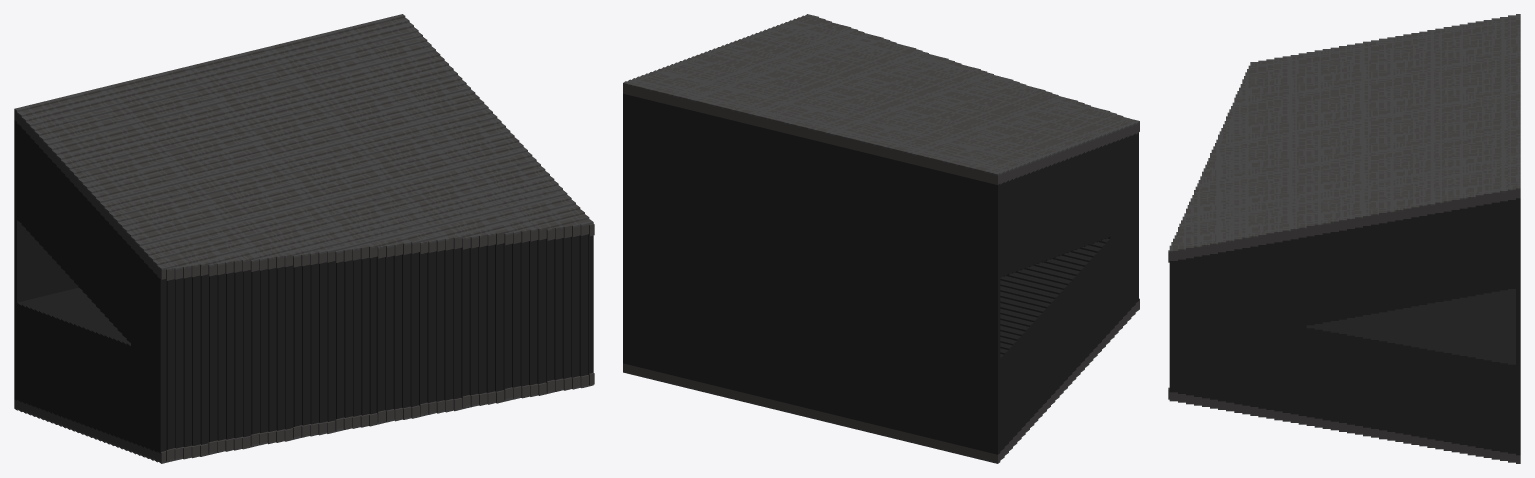
The model's file is Space ship-20.obj.
The picture shows the model from 3 angles, left to right: view 1: azimuth 30°, elevation 25°; view 2: azimuth 150°, elevation 25°; view 3: azimuth 270°, elevation 25°; orthographic projection. The views are drawn at different scales.
Bounding box in the file's own units: 25.6 × 18.9 × 21.9.
1 material, 1 textured.
